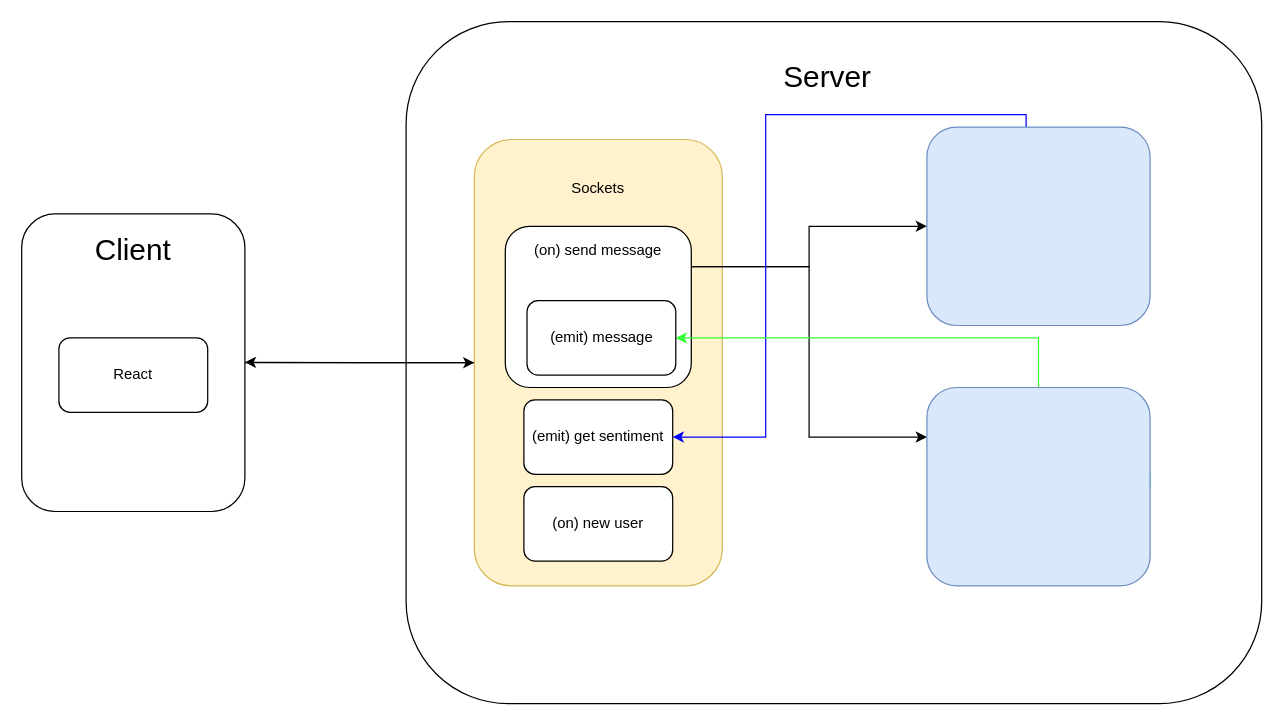
This 1283x725 diagram has some shape labels left out. The shapes that lost their labels are listed below. From the top down, each one's box as (x1, y1, x2, y2) in pixels, then its label:
(926, 126, 1150, 326): Tensorflow Convolutional Neural Network - Sentiment from IMDB
(926, 386, 1150, 586): IBM Tone Detection
